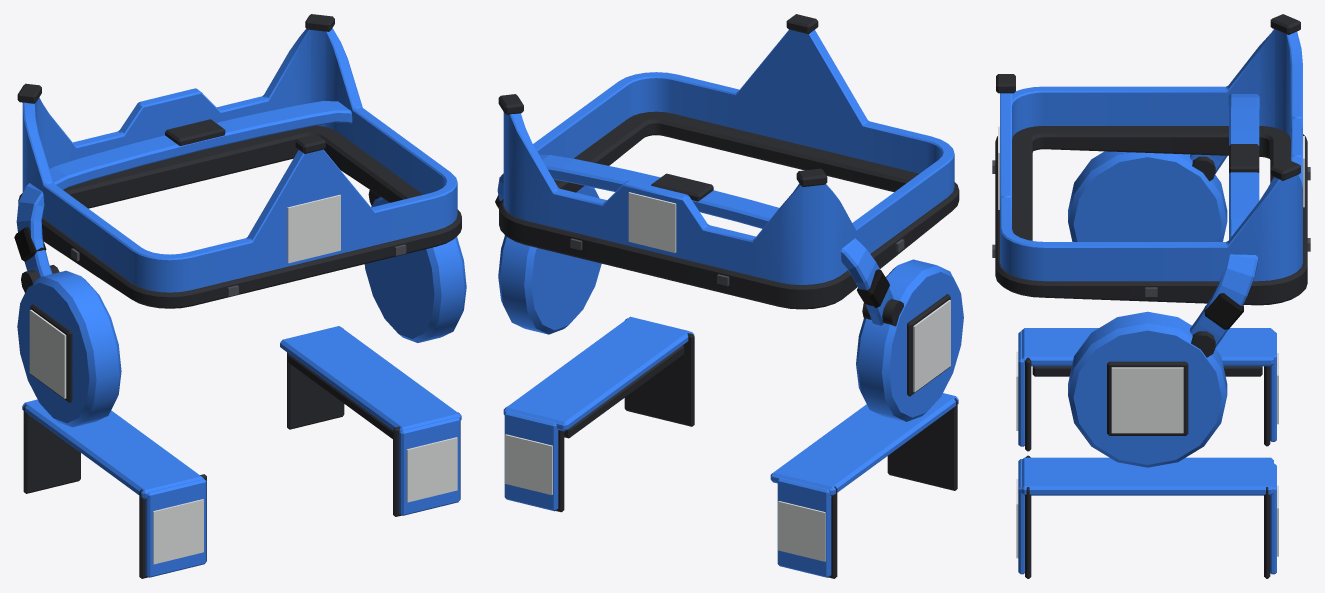
The model's file is droid-team-kit.glb.
The picture shows the model from 3 angles, left to right: view 1: azimuth 30°, elevation 25°; view 2: azimuth 150°, elevation 25°; view 3: azimuth 270°, elevation 25°; orthographic projection. The views are drawn at different scales.
Parts seen in each view (by area): view 1: TeamCrown, TeamShoulders, TeamComms; view 2: TeamCrown, TeamShoulders, TeamComms; view 3: TeamCrown, TeamComms, TeamShoulders.
Part boxes in pixels (box(x1,y1,x2,y2)): TeamCrown: box(17, 14, 461, 308); TeamShoulders: box(22, 326, 461, 578); TeamComms: box(14, 101, 466, 427); TeamCrown: box(498, 14, 959, 309); TeamShoulders: box(503, 316, 958, 578); TeamComms: box(495, 155, 963, 421); TeamCrown: box(992, 14, 1310, 305); TeamComms: box(1068, 94, 1259, 467); TeamShoulders: box(1016, 328, 1278, 578).
Size of the model in its own units: 0.605 by 0.606 by 0.416.
